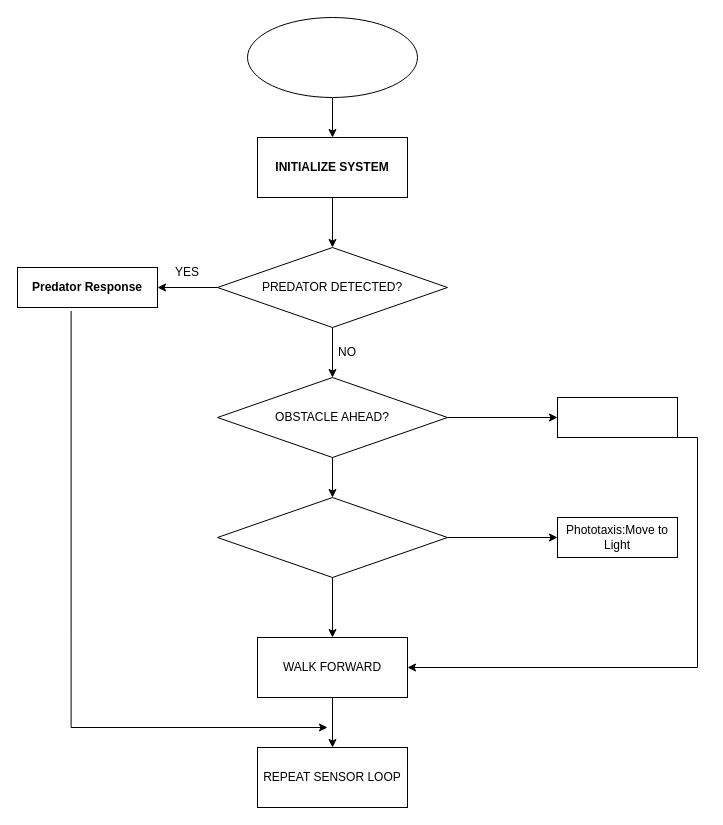
The diagram is 723 pixels wide and 825 high, and some of its shapes have lost their labels. Each missing label, with the centre of its shape:
"LIGHT SENSOR DETECTED" goes at (x=332, y=537).
"Obstacle Avoidance" goes at (x=617, y=417).
"ROBOT POWERED ON" goes at (x=332, y=57).
